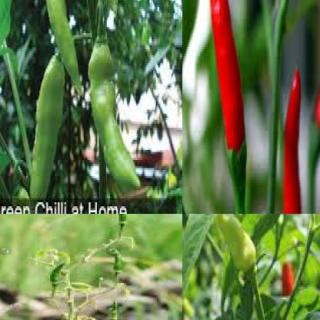green_chilli: (87, 41, 144, 197), (29, 51, 68, 213), (33, 0, 82, 92), (218, 214, 258, 275), (50, 260, 66, 282), (112, 250, 126, 274), (113, 214, 132, 225), (112, 299, 119, 319)
